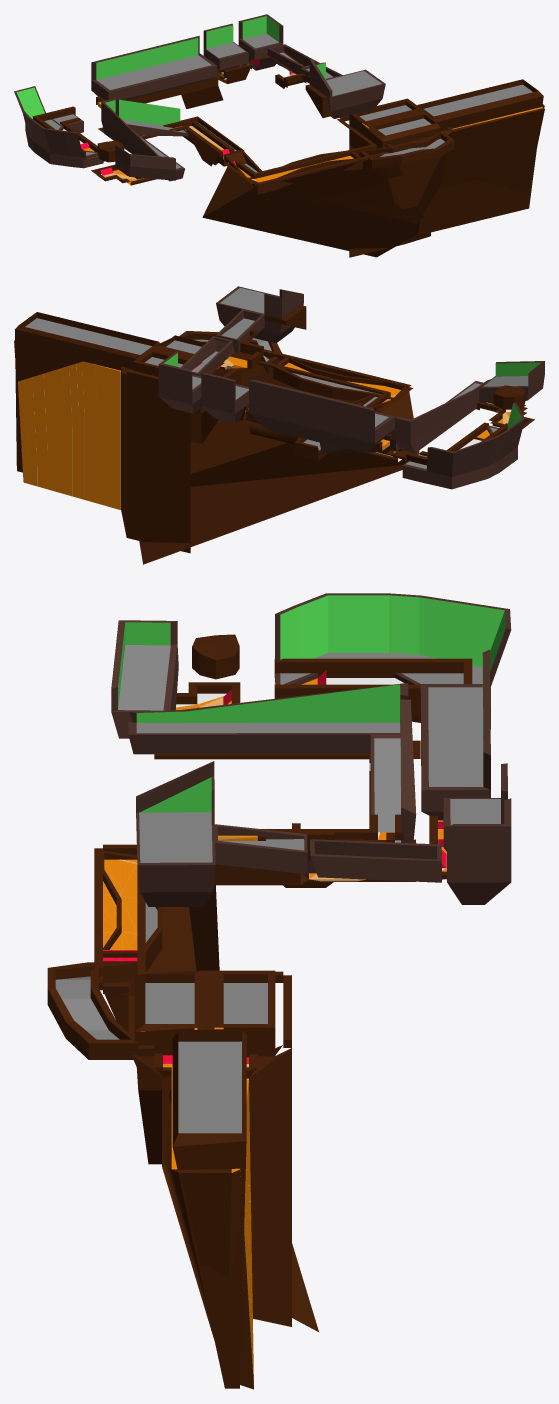
File: modelo_uiltimo tramo.glb
The picture shows the model from 3 angles, top to bottom: view 1: azimuth 30°, elevation 25°; view 2: azimuth 150°, elevation 25°; view 3: azimuth 270°, elevation 25°; orthographic projection. The views are drawn at different scales.
Parts seen in each view (by area): view 1: Cubo.016, pared351; view 2: pared351, Cubo.016; view 3: Cubo.016, pared351.
Boxes of the visible parts, box(x1,y1,x2,y2) form: Cubo.016: box(14, 14, 543, 235); pared351: box(32, 52, 544, 257); pared351: box(14, 305, 534, 564); Cubo.016: box(15, 286, 544, 489); Cubo.016: box(47, 593, 511, 1388); pared351: box(94, 658, 472, 1389).
Size of the model in its own units: 125 by 61.69 by 53.96.
Materials: 6 (2 with a texture image).
